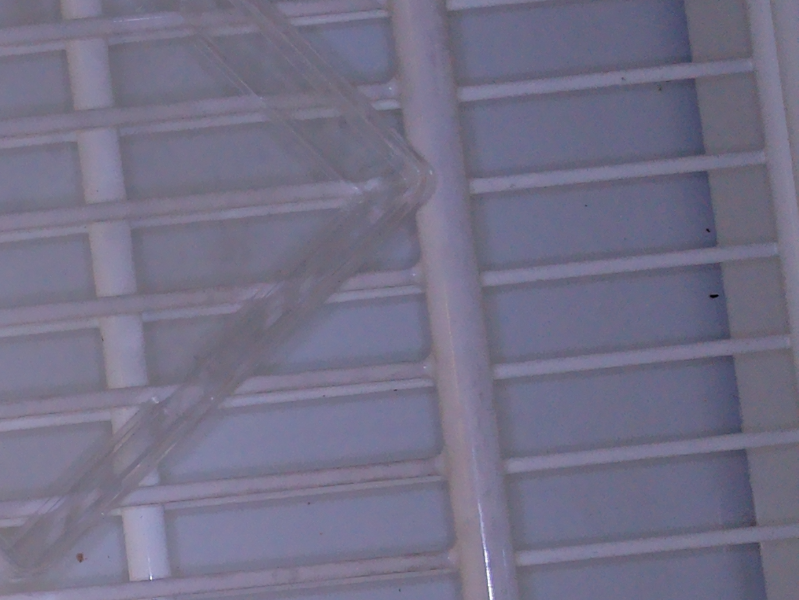plate: (1, 1, 442, 583)
